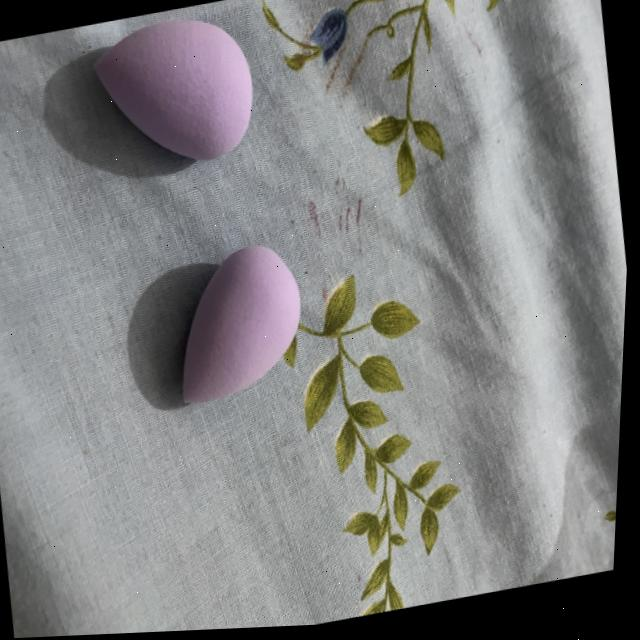beauty blender: (67, 0, 278, 202), (143, 222, 331, 442)
